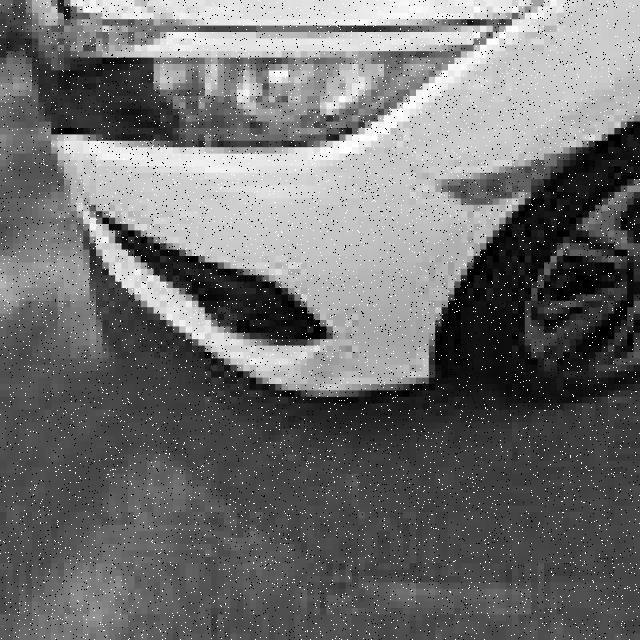front-bumper-dent: (46, 141, 475, 416)
